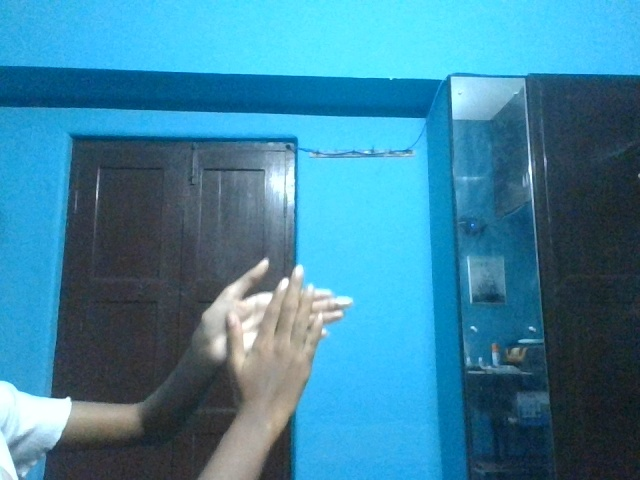H: (183, 252, 355, 418)
